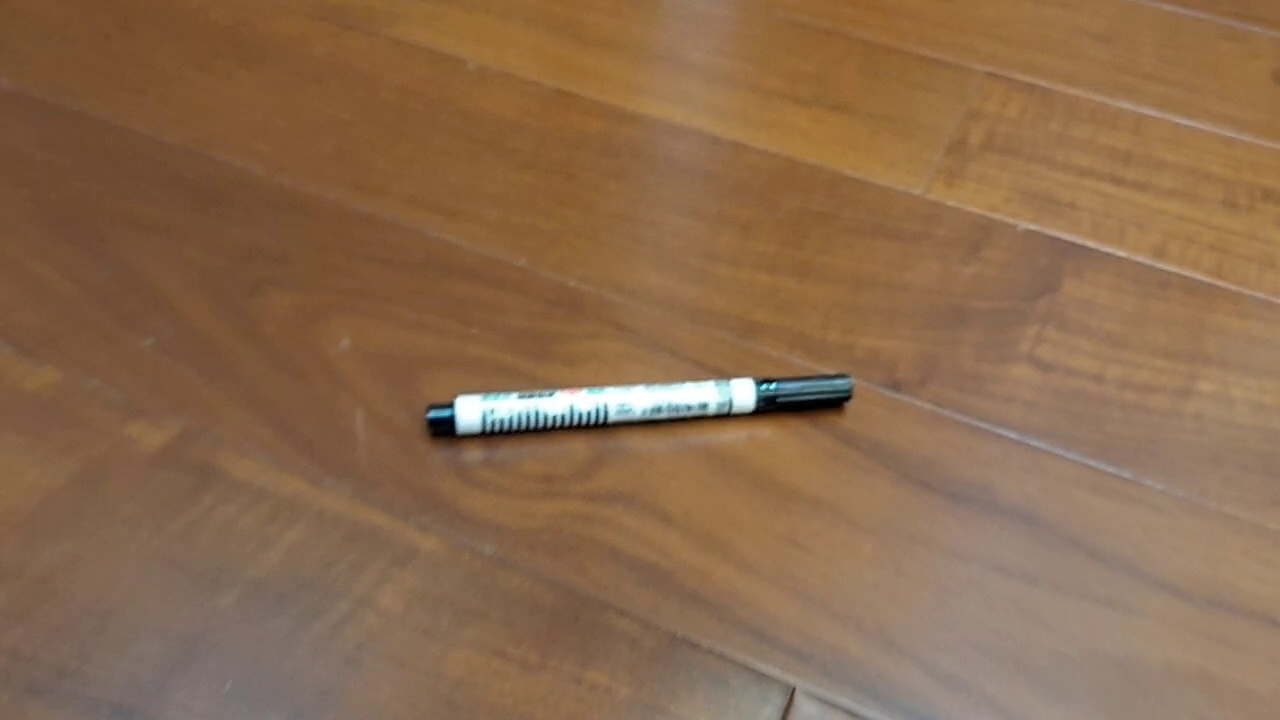pen: (424, 371, 854, 440)
